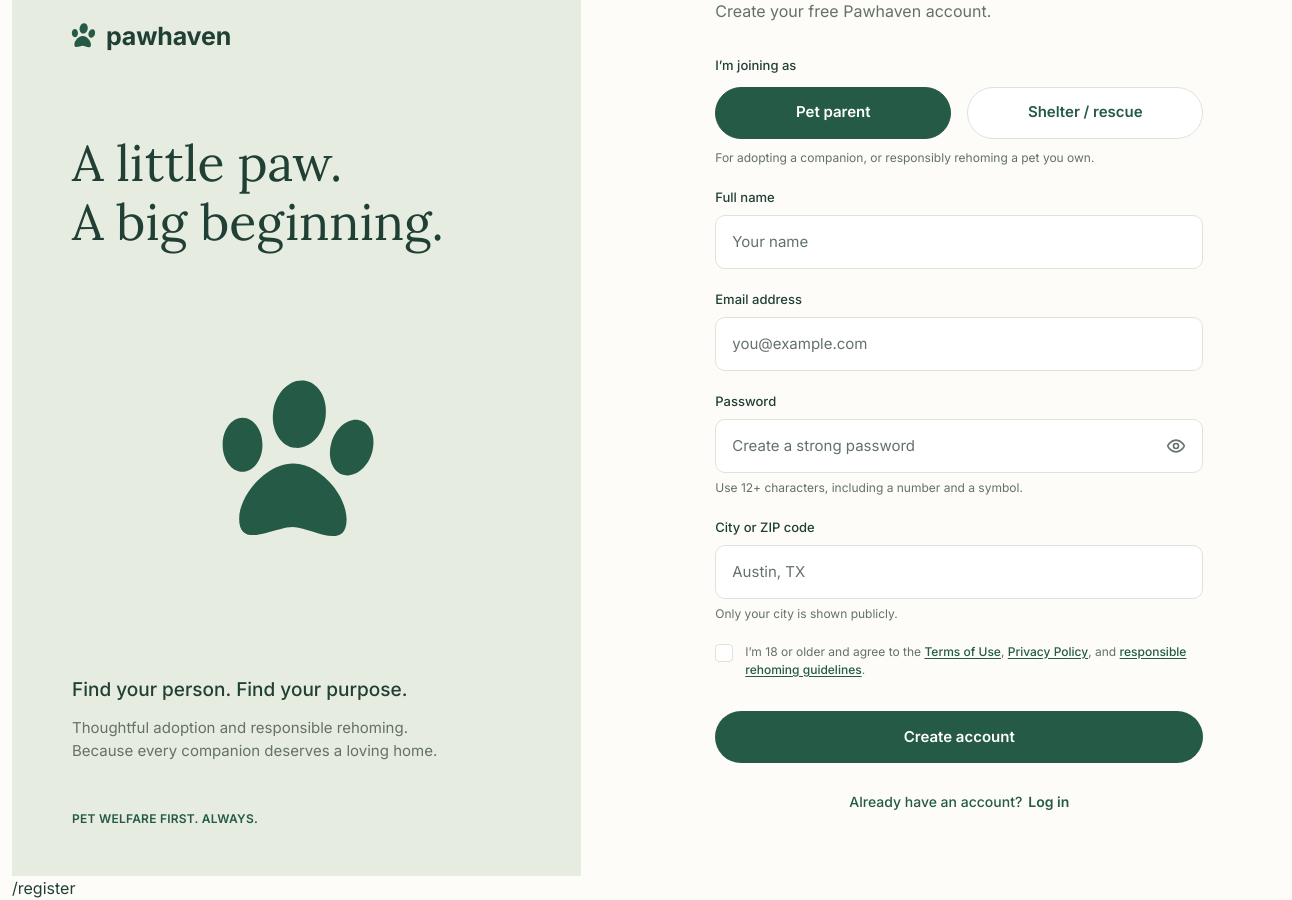
Test: Registration flow › requires consent
(page scrolled)
Click the button "Create account" at (959, 737), box [715,711,1203,763]
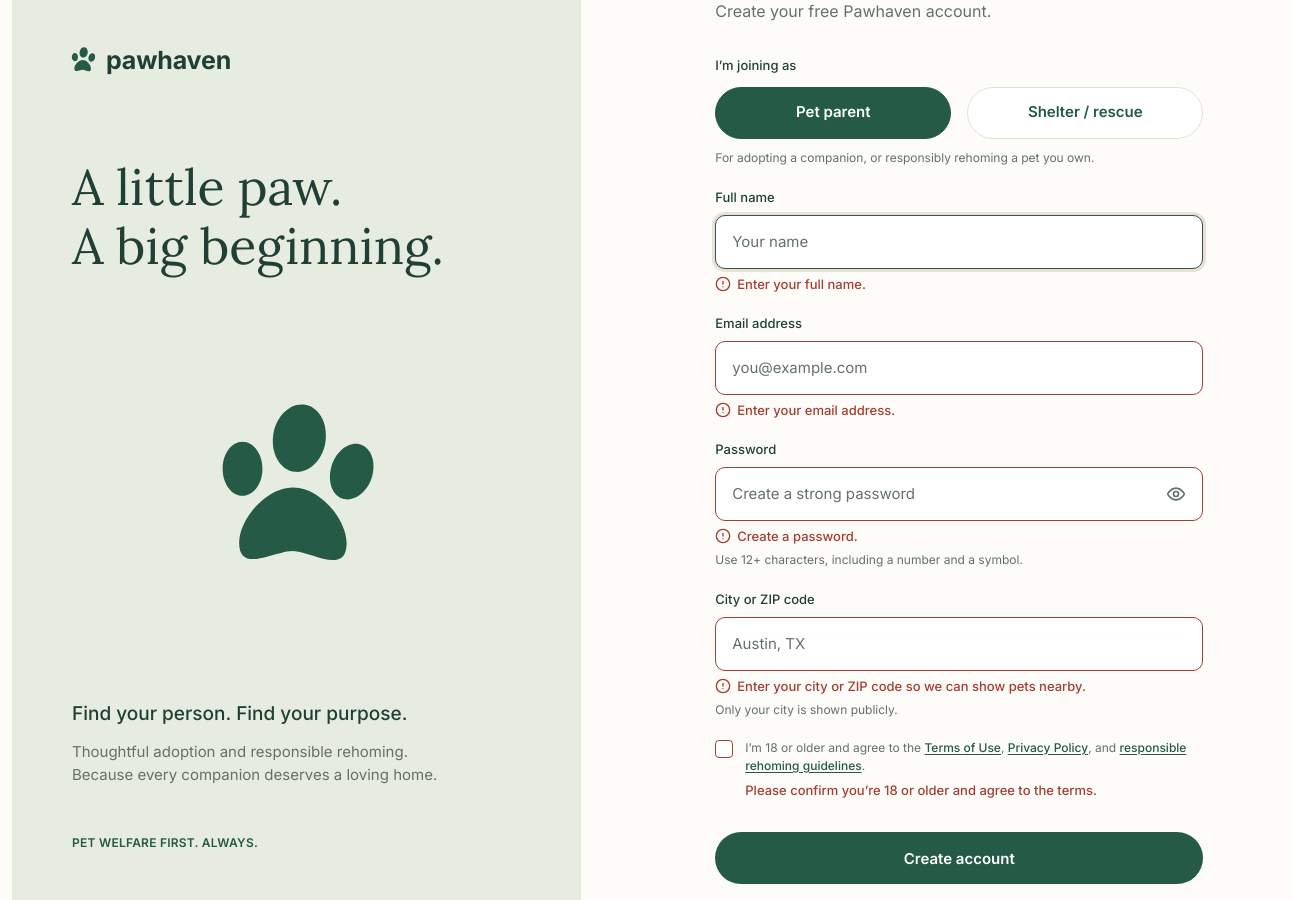
Check: the text "Please confirm you’re 18 or older and agree to the terms." is shown, box [745,782,1097,798]
